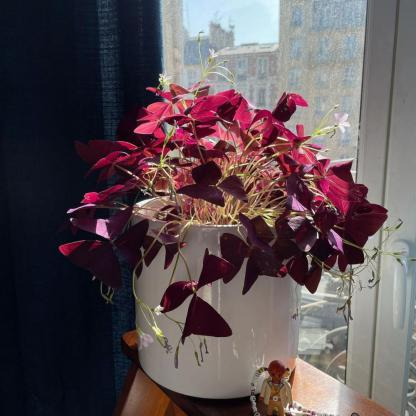Kupu-Kupu: (66, 196, 232, 342), (289, 131, 407, 282), (149, 68, 259, 162), (80, 134, 143, 215)
